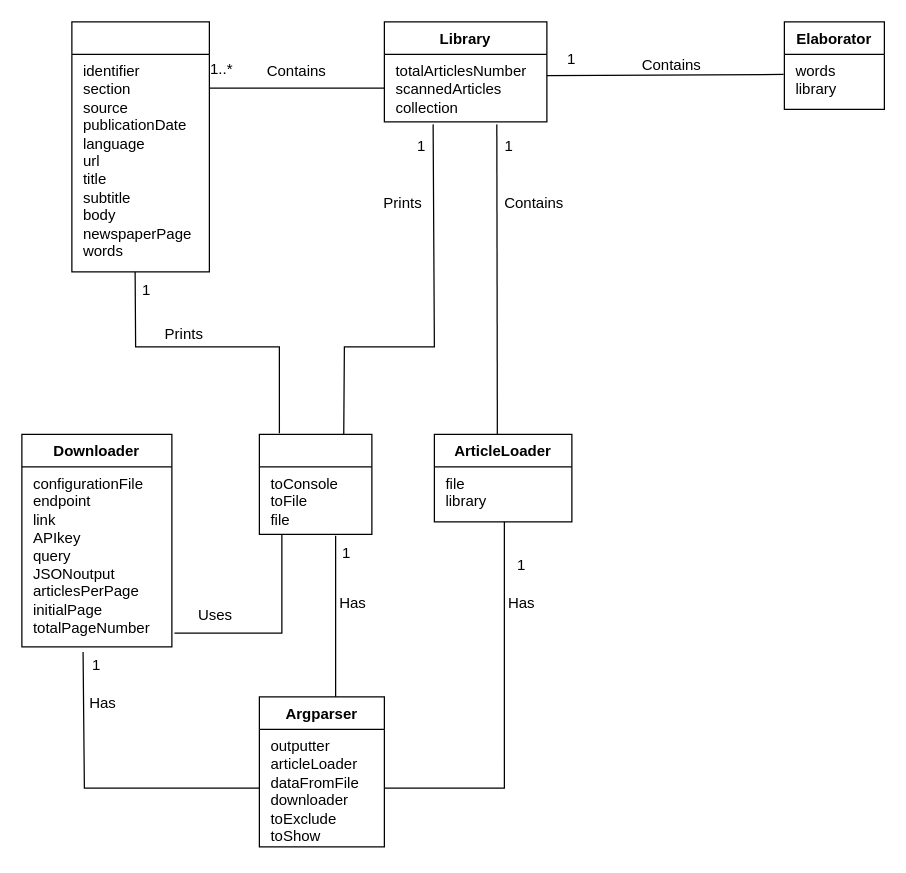
Image size: 906x873. Some labels were removed from this diagram. Here are the shapes that lost their labels. From the top down, the box of each, then its label:
(71, 21, 209, 272): Article
(258, 433, 372, 534): Outputter
